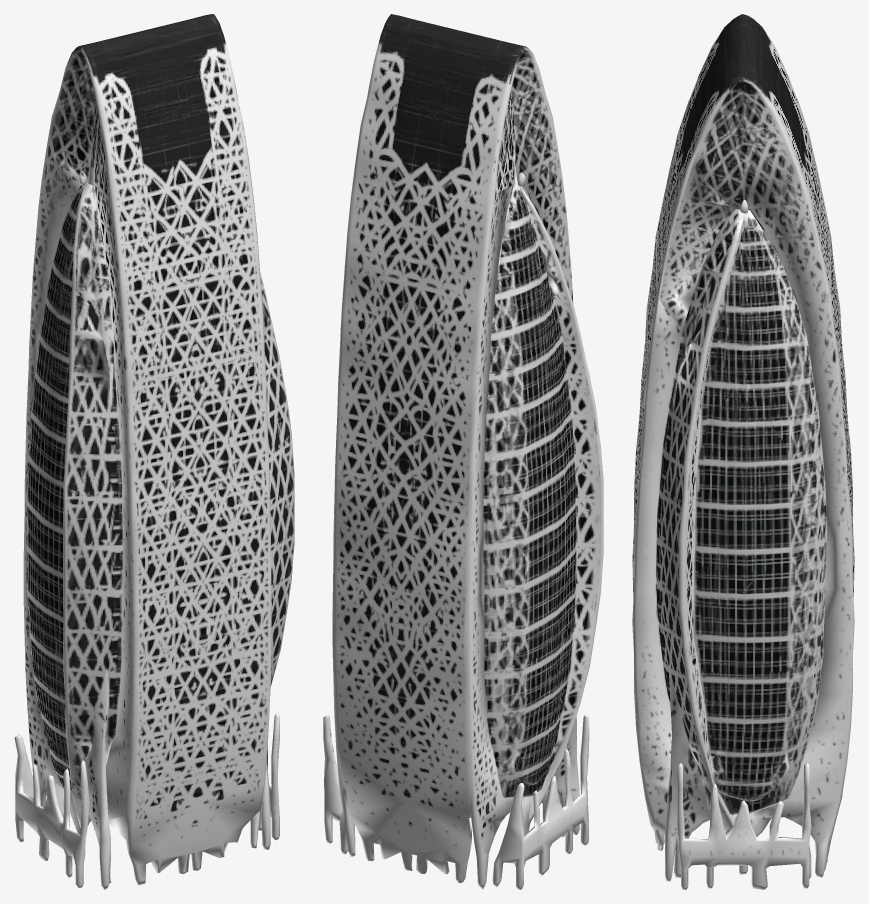
Rendered from cocoon_tower.glb.
3 views of the same model, side by side, from view 1: azimuth 30°, elevation 25°; view 2: azimuth 150°, elevation 25°; view 3: azimuth 270°, elevation 25° (orthographic).
Bounding box in the file's own units: 0.5675 × 1.91 × 0.4814.
Materials: 1 (1 with a texture image).
